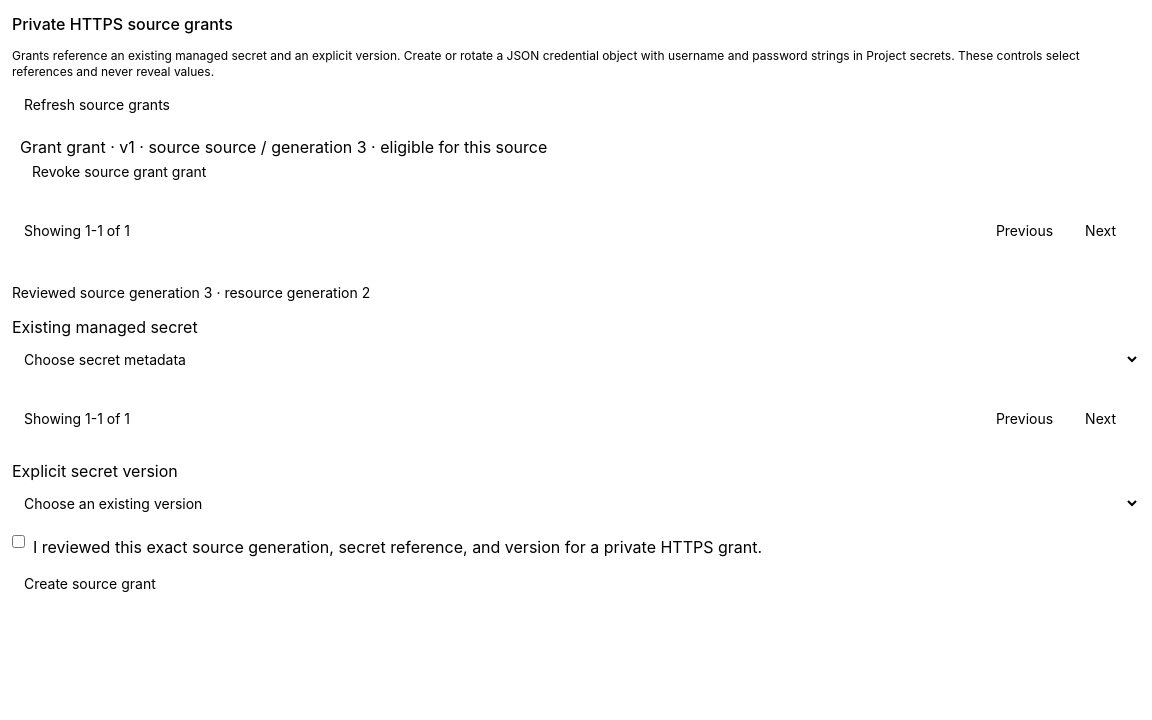
Test: owner grants only explicit existing references without reveal or value caching
The image size is (1152, 720).
Select "Git credentials · secret" in the dropdown labelled "Existing managed secret" at {"x": 576, "y": 359}, box [12,339,1140,379]
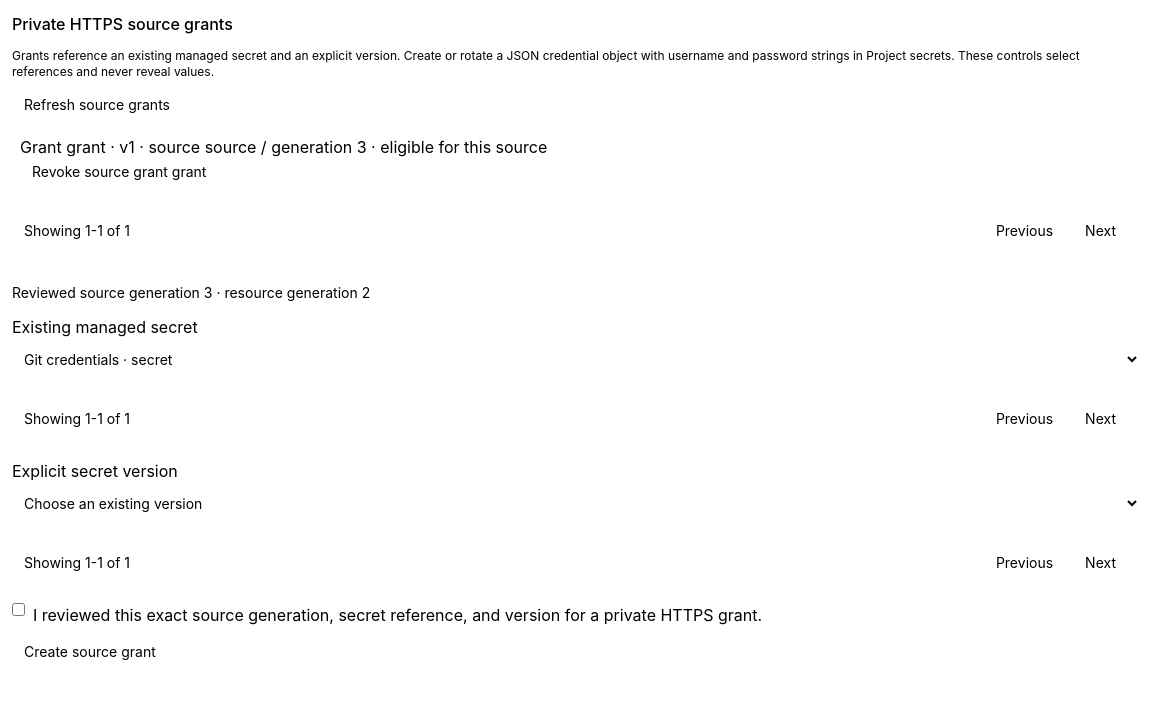
Select "Version 4" in the dropdown labelled "Explicit secret version" at {"x": 576, "y": 503}, box [12,483,1140,523]
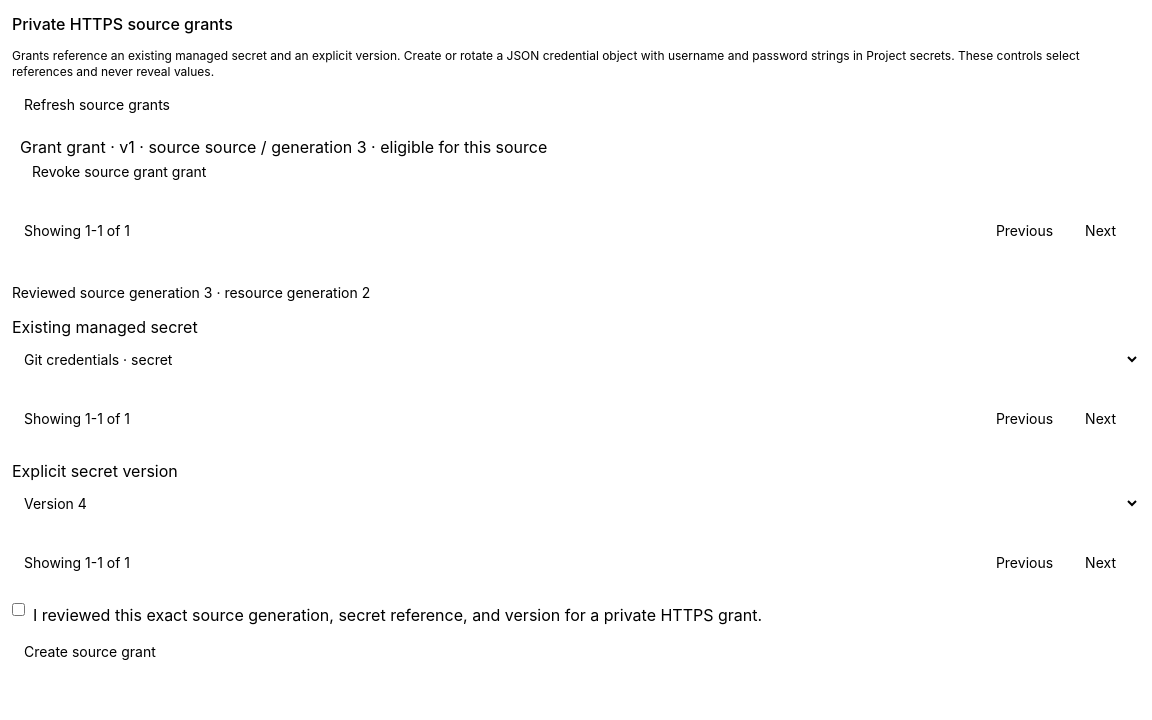
Click the checkbox labelled "I reviewed this exact source generation" at {"x": 18, "y": 610}, box [12,603,25,616]
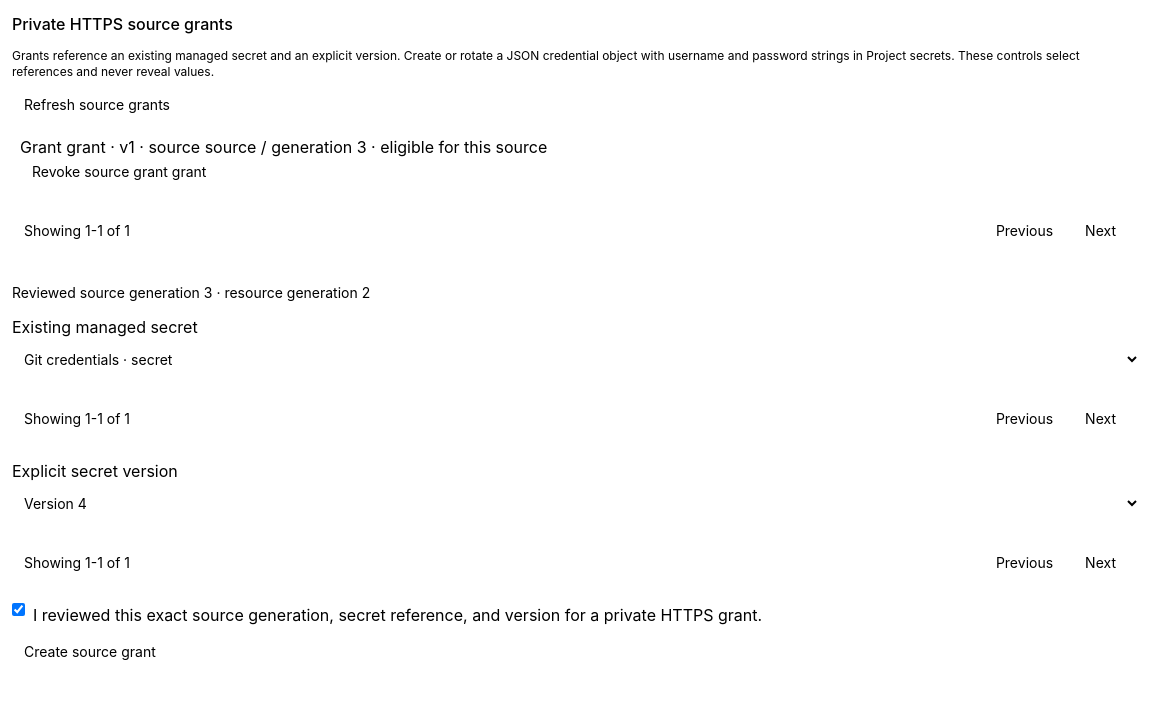
Click the button "Create source grant" at {"x": 90, "y": 652}, box [12,642,168,662]
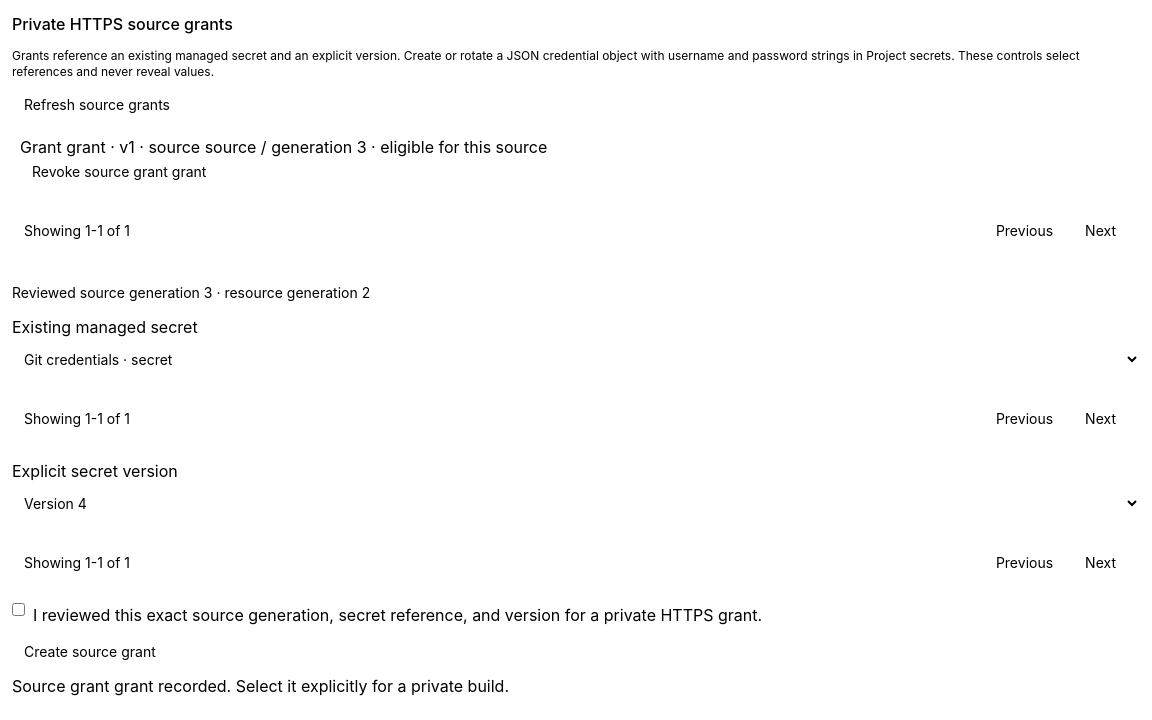
Check: the text "Source grant grant recorded. Select it explicitly for a private build." is shown, box [12,676,509,696]
